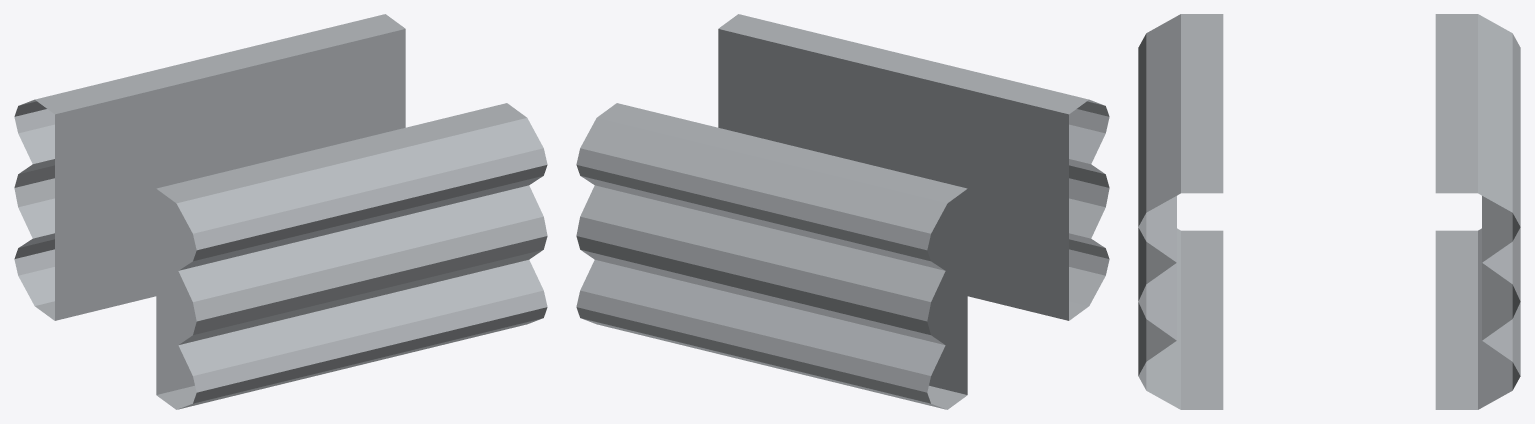
The model's file is guardrail_thrie_beam_wood_double_core.obj.
The picture shows the model from 3 angles, left to right: view 1: azimuth 30°, elevation 25°; view 2: azimuth 150°, elevation 25°; view 3: azimuth 270°, elevation 25°; orthographic projection. The views are drawn at different scales.
Parts seen in each view (by area): view 1: guardrail_thrie_beam_wood_double_core; view 2: guardrail_thrie_beam_wood_double_core; view 3: guardrail_thrie_beam_wood_double_core.
Boxes of the visible parts, bbox=[...] form: guardrail_thrie_beam_wood_double_core: bbox=[14, 14, 547, 409]; guardrail_thrie_beam_wood_double_core: bbox=[576, 14, 1109, 409]; guardrail_thrie_beam_wood_double_core: bbox=[1138, 14, 1520, 409].
Size of the model in its own units: 1 by 0.5625 by 0.9.
